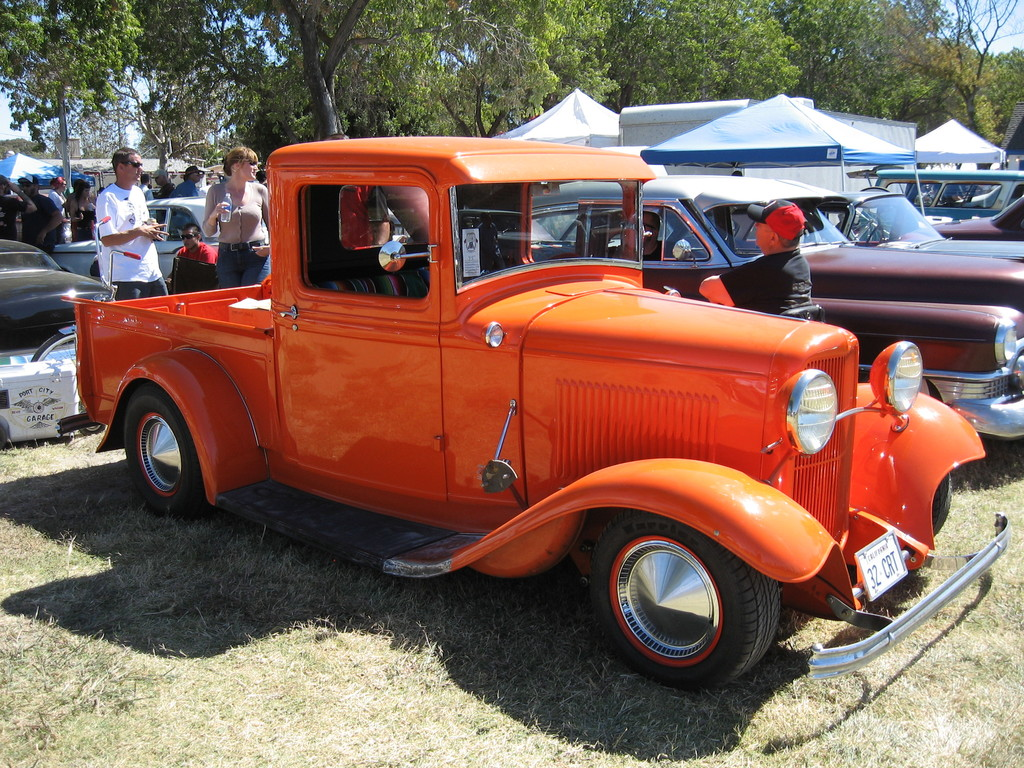Car: (58, 135, 1009, 695), (0, 166, 1023, 444)
